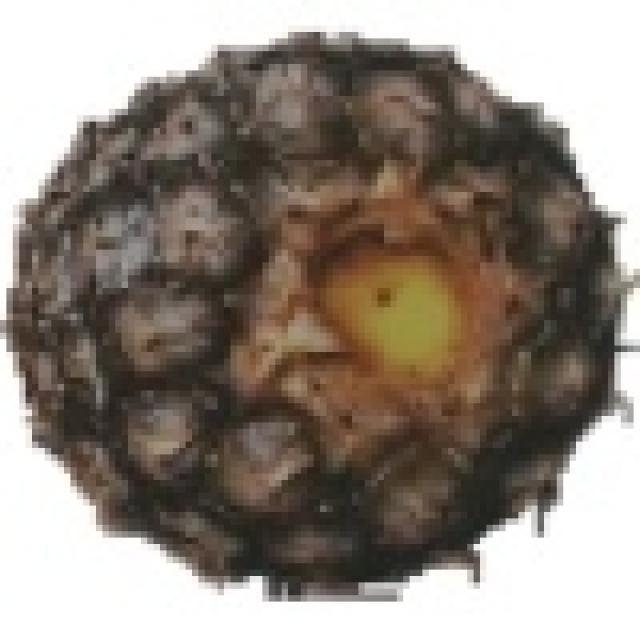pineapple: (6, 26, 608, 576)
